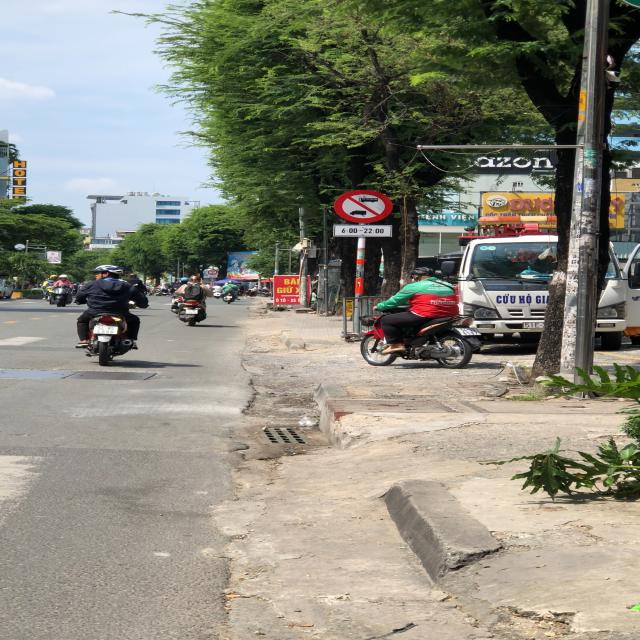Bien bao cam xe oto khach va xe oto tai: (329, 187, 396, 224)
